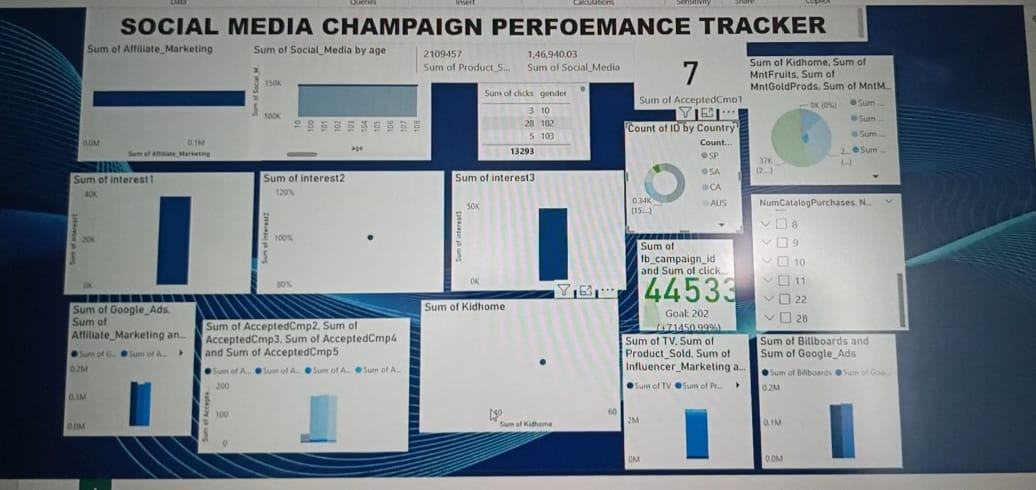

This screenshot's page, from the dashboard's own definition file:
{"tool":"powerbi","page":{"name":"Page 1","canvas":[1280,720],"ordinal":0},"visuals":[{"type":"textbox","box":[9.6,0,1230.9,60.4],"z":0},{"type":"barChart","fields":{"Y":["Sum(Advertising_Data.Affiliate_Marketing)"]},"box":[9.6,59,281.3,189.4],"z":1},{"type":"areaChart","fields":{"Y":["Sum(Advertising_Data.Social_Media)"],"Category":["data.age"]},"box":[270.3,60.4,281.3,188],"z":2},{"type":"multiRowCard","fields":{"Values":["Sum(Advertising_Data.Product_Sold)","Sum(Advertising_Data.Social_Media)"]},"box":[522.8,60.4,348.5,63.1],"z":3},{"type":"tableEx","fields":{"Values":["Sum(data.clicks)","data.gender"]},"box":[624.4,123.5,175.6,124.9],"z":4},{"type":"hundredPercentStackedAreaChart","fields":{"Y":["Sum(data.interest2)"]},"box":[290.9,264.8,281.3,189.4],"z":5},{"type":"clusteredColumnChart","fields":{"Y":["Sum(data.interest1)"]},"box":[0,266.2,281.3,188],"z":6},{"type":"clusteredColumnChart","fields":{"Y":["Sum(data.interest3)"]},"box":[584.6,264.8,269,188],"z":7},{"type":"card","fields":{"Values":["Sum(marketing_data.AcceptedCmp1)"]},"box":[871.4,59,178.4,108.4],"z":8},{"type":"clusteredColumnChart","fields":{"Y":["Sum(marketing_data.AcceptedCmp2)","Sum(marketing_data.AcceptedCmp3)","Sum(marketing_data.AcceptedCmp4)","Sum(marketing_data.AcceptedCmp5)"]},"box":[211.3,494,311.5,197.6],"z":9},{"type":"donutChart","fields":{"Y":["CountNonNull(marketing_data.ID)"],"Category":["marketing_data.Country"]},"box":[856.3,186.6,178.4,178.4],"z":10},{"type":"pieChart","fields":{"Y":["Sum(marketing_data.Kidhome)","Sum(marketing_data.MntFruits)","Sum(marketing_data.MntGoldProds)","Sum(marketing_data.MntMeatProducts)","Sum(marketing_data.MntSweetProducts)","Sum(marketing_data.MntWines)"]},"box":[1049.7,83.7,230.5,207.2],"z":11},{"type":"slicer","fields":{"Values":["marketing_data.NumCatalogPurchases","marketing_data.NumDealsPurchases","marketing_data.NumStorePurchases","marketing_data.NumWebPurchases","marketing_data.NumWebVisitsMonth"]},"box":[1049.7,304.6,230.5,211.3],"z":12},{"type":"scatterChart","fields":{"X":["Sum(marketing_data.Kidhome)"]},"box":[539.3,466.6,300.5,197.6],"z":13},{"type":"kpi","fields":{"Indicator":["Sum(data.fb_campaign_id)"],"Goal":["Sum(data.clicks)"],"TrendLine":["data.approved_conversion"]},"box":[871.4,376,146.8,140],"z":14},{"type":"lineClusteredColumnComboChart","fields":{"Y":["Sum(Advertising_Data.Billboards)","Sum(Advertising_Data.Google_Ads)"]},"box":[1049.7,521.4,209.9,199],"z":15},{"type":"clusteredColumnChart","fields":{"Y":["Sum(Advertising_Data.Google_Ads)","Sum(Advertising_Data.Affiliate_Marketing)","Sum(Advertising_Data.Billboards)"]},"box":[9.6,466.6,190.7,199],"z":16},{"type":"columnChart","fields":{"Y":["Sum(Advertising_Data.TV)","Sum(Advertising_Data.Product_Sold)","Sum(Advertising_Data.Influencer_Marketing)","Sum(Advertising_Data.Google_Ads)"]},"box":[845.3,521.4,192.1,199],"z":17}]}

Visuals, with their boxes in screenshot pixels (x1, y1, x2, y2):
textbox: crop(60, 0, 888, 30)
barChart - Sum(Advertising_Data.Affiliate_Marketing): crop(60, 29, 250, 156)
areaChart - Sum(Advertising_Data.Social_Media) x data.age: crop(236, 30, 425, 156)
multiRowCard - Sum(Advertising_Data.Product_Sold) x Sum(Advertising_Data.Social_Media): crop(406, 30, 640, 72)
tableEx - Sum(data.clicks) x data.gender: crop(474, 72, 592, 156)
hundredPercentStackedAreaChart - Sum(data.interest2): crop(250, 167, 439, 295)
clusteredColumnChart - Sum(data.interest1): crop(54, 168, 243, 295)
clusteredColumnChart - Sum(data.interest3): crop(447, 167, 628, 294)
card - Sum(marketing_data.AcceptedCmp1): crop(640, 29, 760, 102)
clusteredColumnChart - Sum(marketing_data.AcceptedCmp2) x Sum(marketing_data.AcceptedCmp3): crop(196, 321, 406, 454)
donutChart - CountNonNull(marketing_data.ID) x marketing_data.Country: crop(630, 115, 750, 235)
pieChart - Sum(marketing_data.Kidhome) x Sum(marketing_data.MntFruits): crop(760, 46, 915, 185)
slicer - marketing_data.NumCatalogPurchases x marketing_data.NumDealsPurchases: crop(760, 194, 915, 336)
scatterChart - Sum(marketing_data.Kidhome): crop(417, 303, 619, 436)
kpi - Sum(data.fb_campaign_id) x Sum(data.clicks): crop(640, 242, 739, 336)
lineClusteredColumnComboChart - Sum(Advertising_Data.Billboards) x Sum(Advertising_Data.Google_Ads): crop(760, 340, 901, 474)
clusteredColumnChart - Sum(Advertising_Data.Google_Ads) x Sum(Advertising_Data.Affiliate_Marketing): crop(60, 303, 189, 437)
columnChart - Sum(Advertising_Data.TV) x Sum(Advertising_Data.Product_Sold): crop(622, 340, 752, 474)
